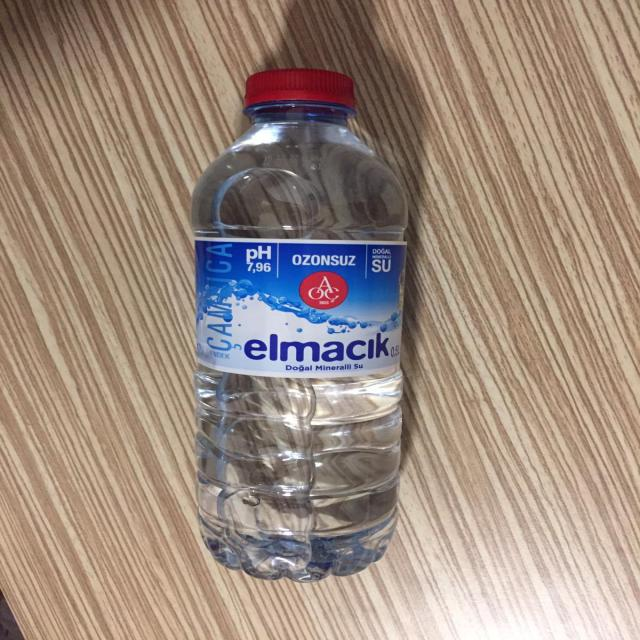bottle: (165, 49, 435, 609)
